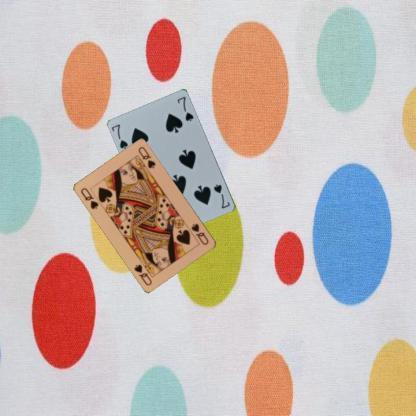7s: (109, 122, 130, 150), (212, 182, 232, 210)
Qs: (78, 185, 100, 211), (188, 221, 210, 246)
